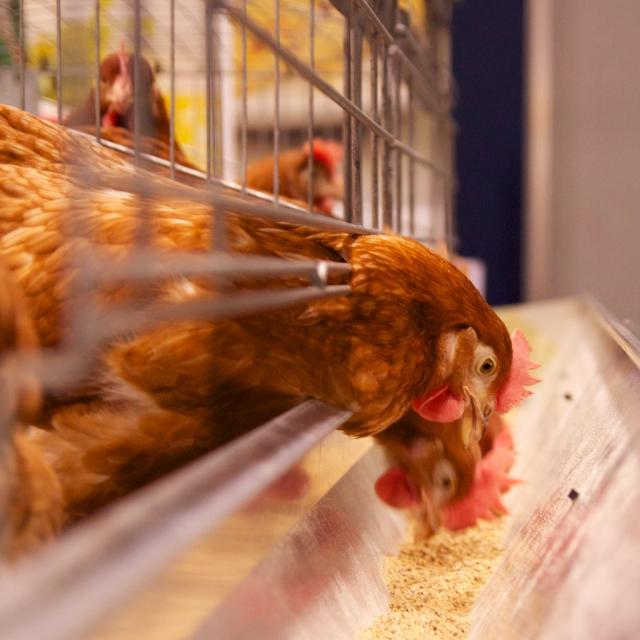Chicken: (0, 98, 537, 565)
